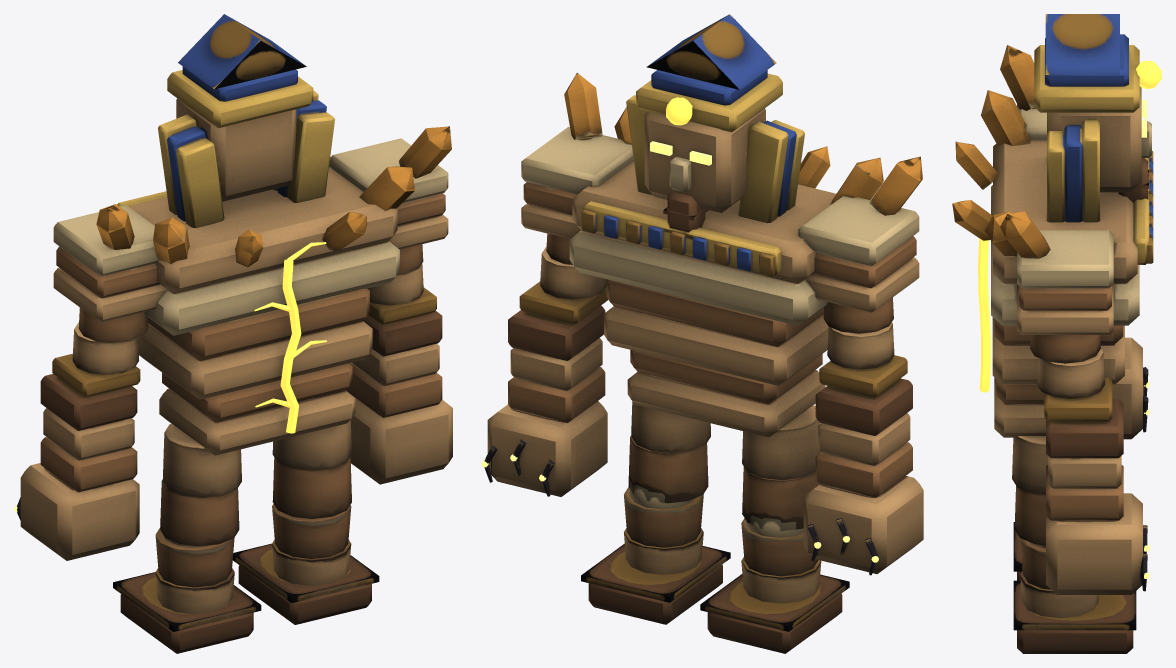
The model's file is boss_sandstone_colossus.fbx.
The picture shows the model from 3 angles, left to right: view 1: azimuth 30°, elevation 25°; view 2: azimuth 150°, elevation 25°; view 3: azimuth 270°, elevation 25°; orthographic projection.
Parts seen in each view (by area): view 1: Body, Head, ForearmL, ForearmR, ArmL, KneeL, KneeR, ArmR, LegL, LegR, Body_Glow_Magma; view 2: Body, Head, ForearmL, ForearmR, ArmL, KneeR, KneeL, ArmR, LegL, LegR; view 3: Body, Head, ForearmR, ArmR, KneeR, LegR, ForearmL, ArmL, Body_Glow_Magma, Head_Glow_Magma, KneeL.
Part boxes in pixels (bbox=[...]): Body: bbox=[117, 166, 414, 455]; Head: bbox=[158, 14, 334, 227]; ForearmL: bbox=[17, 353, 140, 560]; ForearmR: bbox=[345, 287, 452, 484]; ArmL: bbox=[53, 204, 166, 374]; KneeL: bbox=[113, 527, 261, 653]; KneeR: bbox=[232, 504, 379, 624]; ArmR: bbox=[329, 126, 451, 305]; LegL: bbox=[160, 423, 241, 546]; LegR: bbox=[272, 419, 351, 518]; Body_Glow_Magma: bbox=[254, 242, 326, 433]; Body: bbox=[569, 107, 883, 437]; Head: bbox=[626, 14, 804, 232]; ForearmL: bbox=[803, 355, 923, 575]; ForearmR: bbox=[484, 281, 608, 496]; ArmL: bbox=[798, 156, 922, 369]; KneeR: bbox=[581, 482, 730, 624]; KneeL: bbox=[700, 515, 849, 653]; ArmR: bbox=[521, 73, 633, 299]; LegL: bbox=[742, 405, 820, 529]; LegR: bbox=[628, 401, 710, 503]; Body: bbox=[952, 90, 1153, 437]; Head: bbox=[1034, 14, 1151, 222]; ForearmR: bbox=[1044, 377, 1147, 594]; ArmR: bbox=[1000, 211, 1113, 398]; KneeR: bbox=[1013, 538, 1136, 653]; LegR: bbox=[1012, 436, 1047, 545]; ForearmL: bbox=[1112, 337, 1148, 439]; ArmL: bbox=[1000, 45, 1046, 140]; Body_Glow_Magma: bbox=[978, 238, 990, 392]; Head_Glow_Magma: bbox=[1135, 60, 1161, 88]; KneeL: bbox=[1013, 522, 1022, 580].
Size of the model in its own units: 1440 by 2024 by 648.
3 materials, 1 textured.
